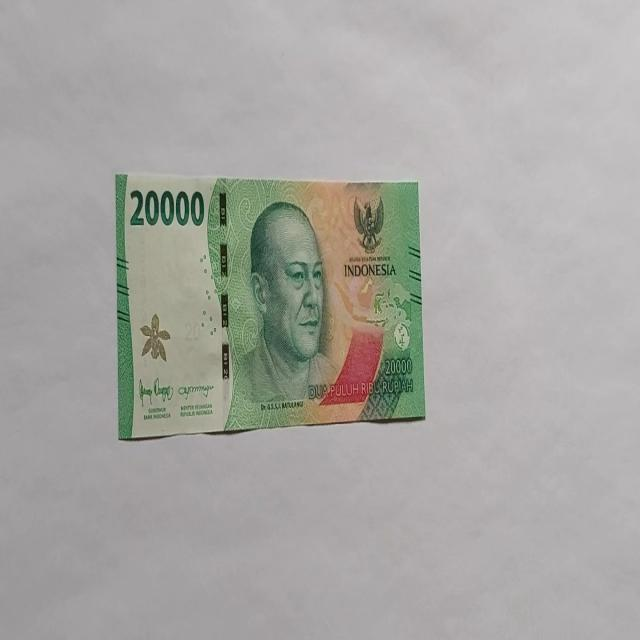dua puluh ribu rupiah: (114, 170, 426, 440), (226, 198, 340, 428)
